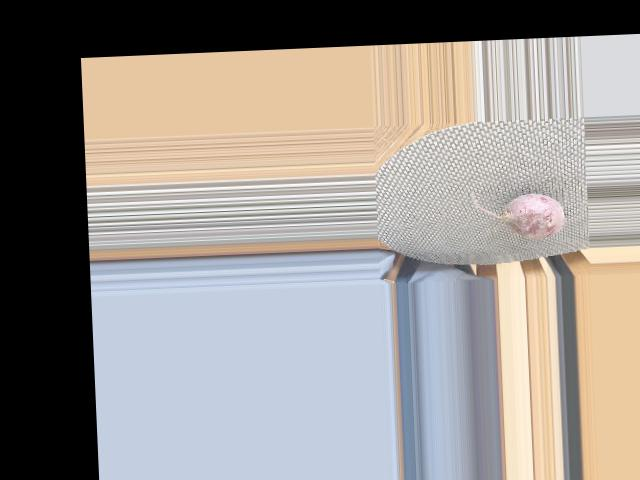beet: (471, 187, 565, 242)
